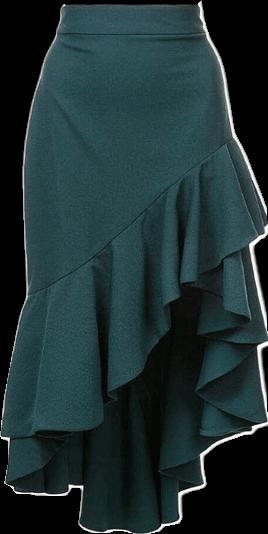Hemline: (2, 223, 267, 484), (190, 283, 267, 423)
Waistline: (25, 136, 235, 298), (60, 0, 199, 10), (54, 30, 206, 39)
